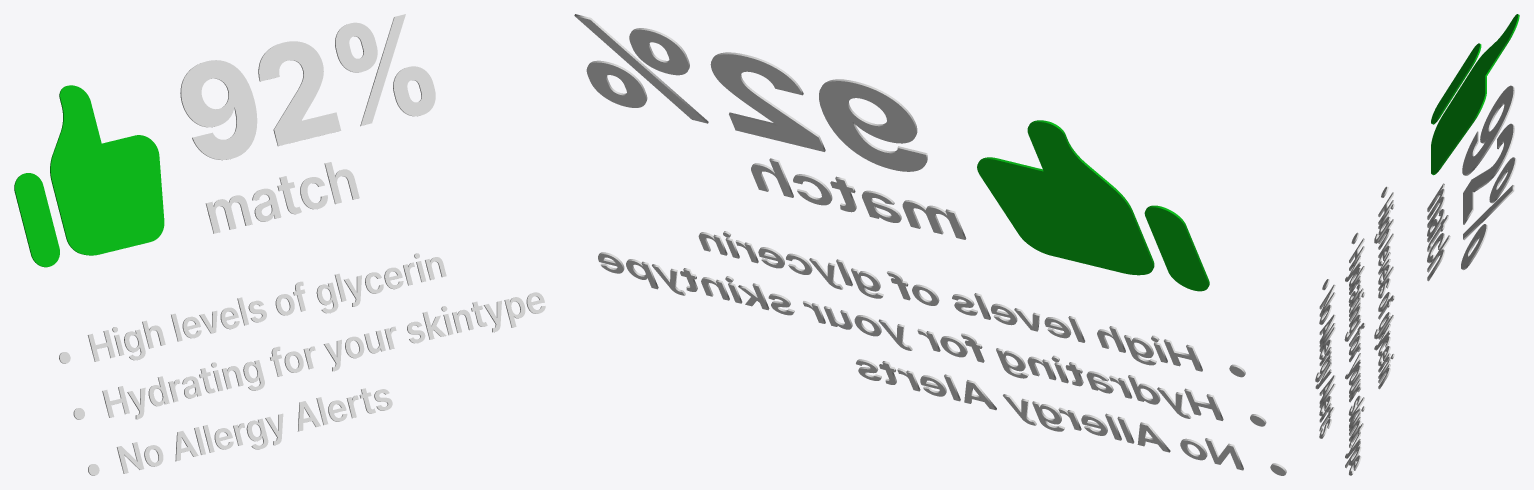
Rendered from goodCard.obj.
3 views of the same model, side by side, from view 1: azimuth 30°, elevation 25°; view 2: azimuth 150°, elevation 25°; view 3: azimuth 270°, elevation 25° (orthographic). The views are drawn at different scales.
Visible parts, largest first — view 1: Curve.001_Curve.008, Curve.003_Curve.010, Curve.002_Curve.009, Curve_Curve.007; view 2: Curve.003_Curve.010, Curve.001_Curve.008, Curve.002_Curve.009, Curve_Curve.007; view 3: Curve.003_Curve.010, Curve.001_Curve.008, Curve.002_Curve.009, Curve_Curve.007.
Part boxes in pixels (box(x1,y1,x2,y2)): Curve.001_Curve.008: box(14, 85, 164, 267); Curve.003_Curve.010: box(59, 253, 545, 475); Curve.002_Curve.009: box(180, 14, 435, 160); Curve_Curve.007: box(205, 162, 359, 233); Curve.003_Curve.010: box(598, 231, 1286, 475); Curve.001_Curve.008: box(977, 120, 1209, 291); Curve.002_Curve.009: box(574, 14, 927, 171); Curve_Curve.007: box(751, 158, 966, 239); Curve.003_Curve.010: box(1315, 186, 1394, 475); Curve.001_Curve.008: box(1431, 14, 1519, 175); Curve.002_Curve.009: box(1461, 85, 1516, 270); Curve_Curve.007: box(1427, 183, 1450, 281).
Bounding box in the file's own units: 1.35 × 0.8585 × 0.498.
